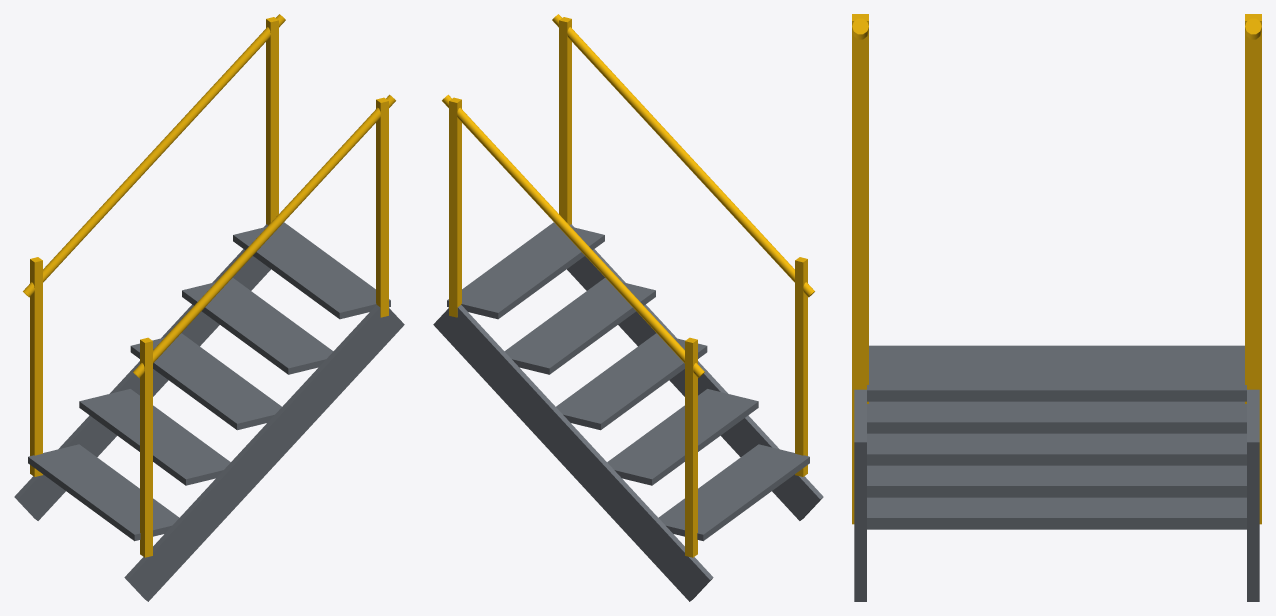
Rendered from stairs.glb.
3 views of the same model, side by side, from view 1: azimuth 30°, elevation 25°; view 2: azimuth 150°, elevation 25°; view 3: azimuth 270°, elevation 25° (orthographic). The views are drawn at different scales.
Visible parts, largest first — view 1: Stairs; view 2: Stairs; view 3: Stairs.
Boxes of the visible parts, left/top/right/bottom form: Stairs: left=14, top=14, right=404, bottom=601; Stairs: left=433, top=14, right=823, bottom=601; Stairs: left=852, top=14, right=1261, bottom=601.
Bounding box in the file's own units: 1.35 × 2.08 × 0.97.
